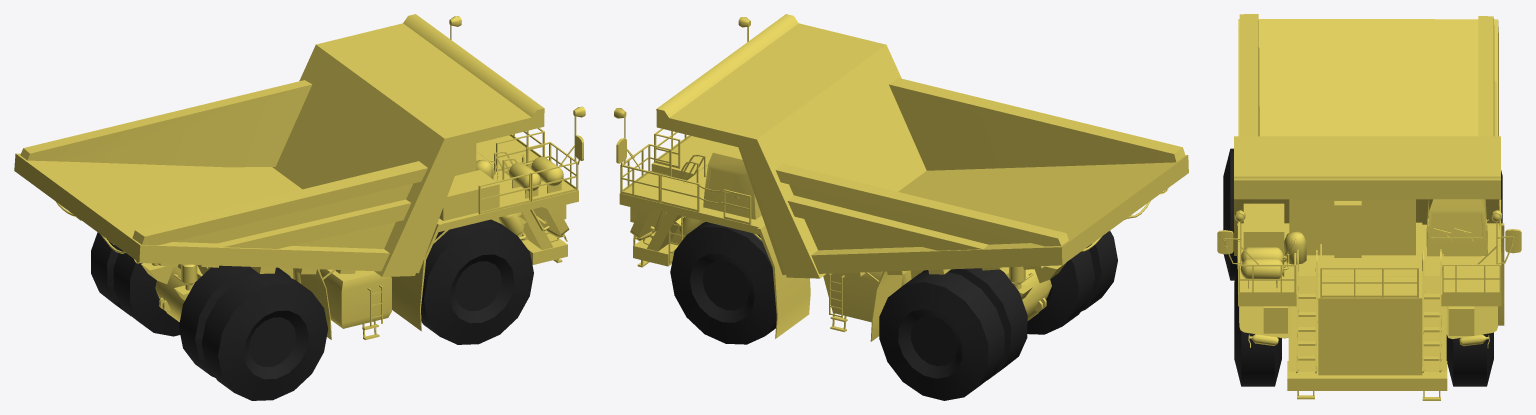
The model's file is Belaz75131.glb.
The picture shows the model from 3 angles, left to right: view 1: azimuth 30°, elevation 25°; view 2: azimuth 150°, elevation 25°; view 3: azimuth 270°, elevation 25°; orthographic projection. The views are drawn at different scales.
Parts seen in each view (by area): view 1: frame, wheel4, wheel2, wheel3; view 2: frame, wheel3, wheel1, wheel4; view 3: frame, wheel2, wheel1, wheel4.
Boxes of the visible parts, bbox=[...] form: frame: bbox=[14, 14, 585, 339]; wheel4: bbox=[179, 265, 327, 400]; wheel2: bbox=[421, 219, 533, 344]; wheel3: bbox=[91, 232, 180, 336]; frame: bbox=[614, 14, 1188, 341]; wheel3: bbox=[879, 268, 1027, 400]; wheel1: bbox=[670, 222, 776, 344]; wheel4: bbox=[1027, 231, 1117, 334]; frame: bbox=[1217, 14, 1521, 400]; wheel2: bbox=[1234, 269, 1281, 386]; wheel1: bbox=[1446, 332, 1493, 386]; wheel4: bbox=[1223, 148, 1237, 280].
Bounding box in the file's own units: 70.19 × 33.25 × 39.5.
